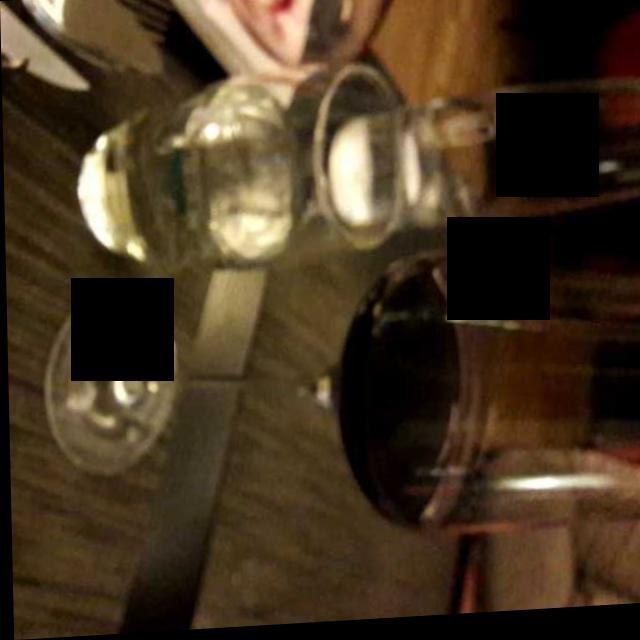water: (87, 82, 300, 250)
wine: (335, 266, 461, 523)
